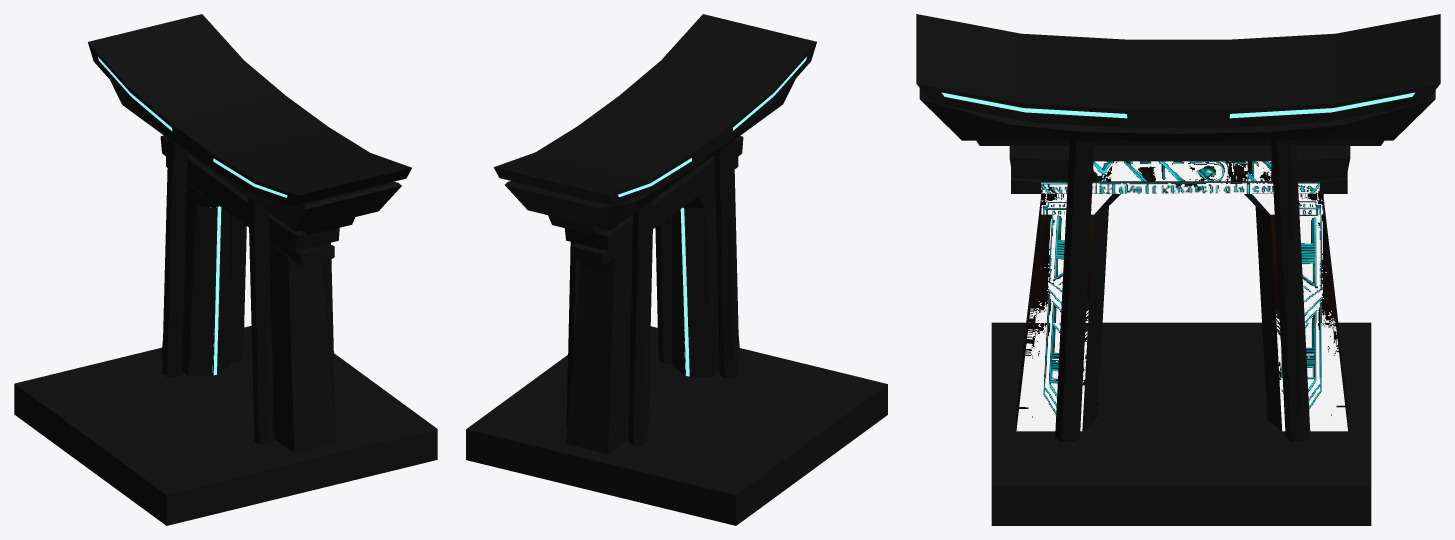
Rendered from Torii_Arch_3.fbx.
3 views of the same model, side by side, from view 1: azimuth 30°, elevation 25°; view 2: azimuth 150°, elevation 25°; view 3: azimuth 270°, elevation 25° (orthographic). The views are drawn at different scales.
Visible parts, largest first — view 1: ToriiArch, Base, ToriiArchWoodPosts, ToriiArchGlow; view 2: ToriiArch, Base, ToriiArchWoodPosts, ToriiArchGlow; view 3: ToriiArch, Base, ToriiArchWoodPosts, ToriiArchGlow.
Boxes of the visible parts, left/top/right/bottom form: ToriiArch: left=88, top=14, right=411, bottom=453; Base: left=14, top=326, right=437, bottom=525; ToriiArchWoodPosts: left=162, top=139, right=335, bottom=444; ToriiArchGlow: left=98, top=57, right=287, bottom=375; ToriiArch: left=494, top=14, right=816, bottom=454; Base: left=466, top=326, right=887, bottom=525; ToriiArchWoodPosts: left=566, top=140, right=739, bottom=445; ToriiArchGlow: left=618, top=57, right=806, bottom=376; ToriiArch: left=916, top=14, right=1440, bottom=431; Base: left=991, top=322, right=1371, bottom=525; ToriiArchWoodPosts: left=1055, top=140, right=1310, bottom=441; ToriiArchGlow: left=941, top=92, right=1415, bottom=205.
Size of the model in its own units: 744 by 860 by 1000.
